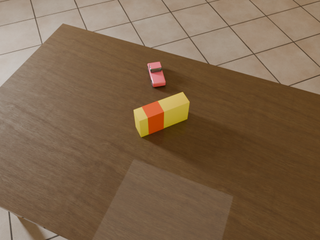box: (134, 92, 189, 137)
toy_car: (148, 62, 166, 87)
